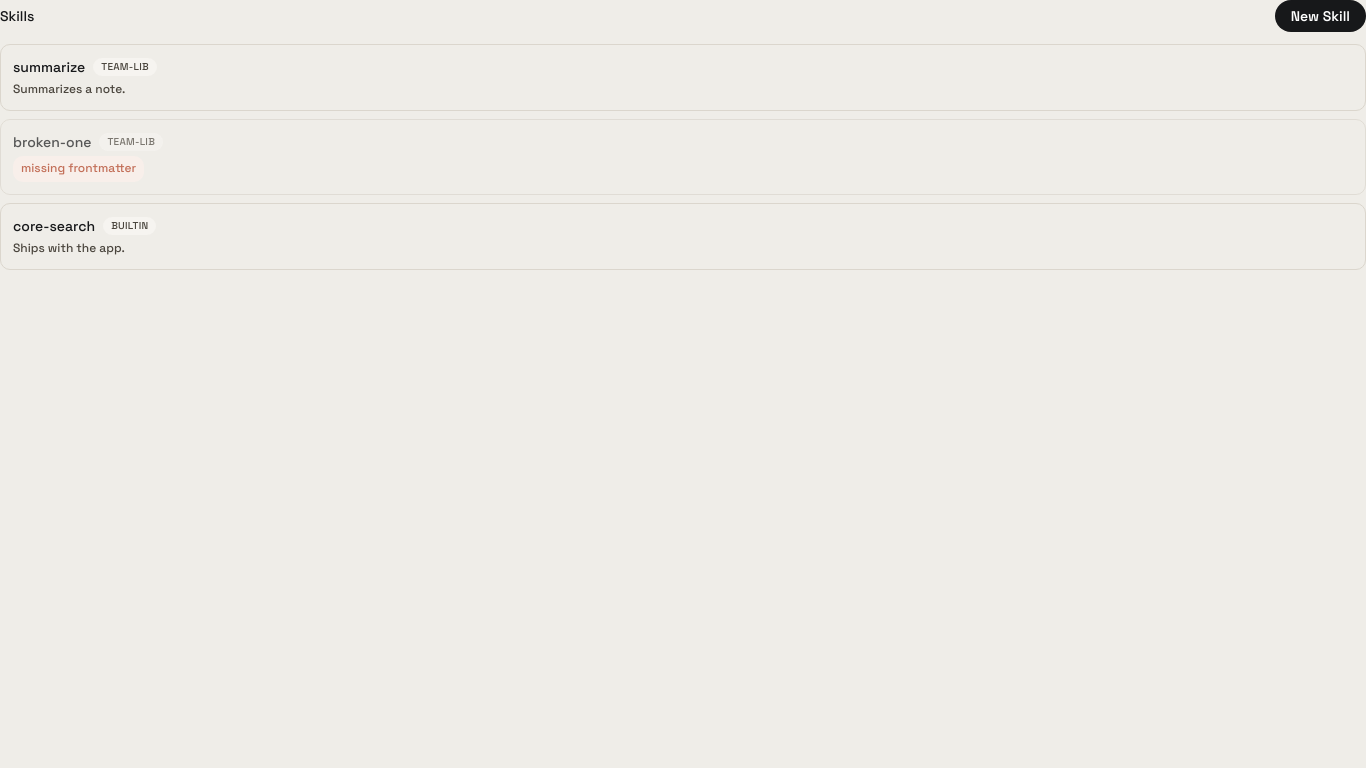
Test: <SkillsBrowser /> › surfaces a failed creation inline, without closing the dialog
Check: the button with test id "skill-card-summarize" is shown, box top-left (0, 44), bottom-right (1365, 111)
Click the button "New Skill".
click(1320, 16)  # box top-left (1275, 0), bottom-right (1365, 32)
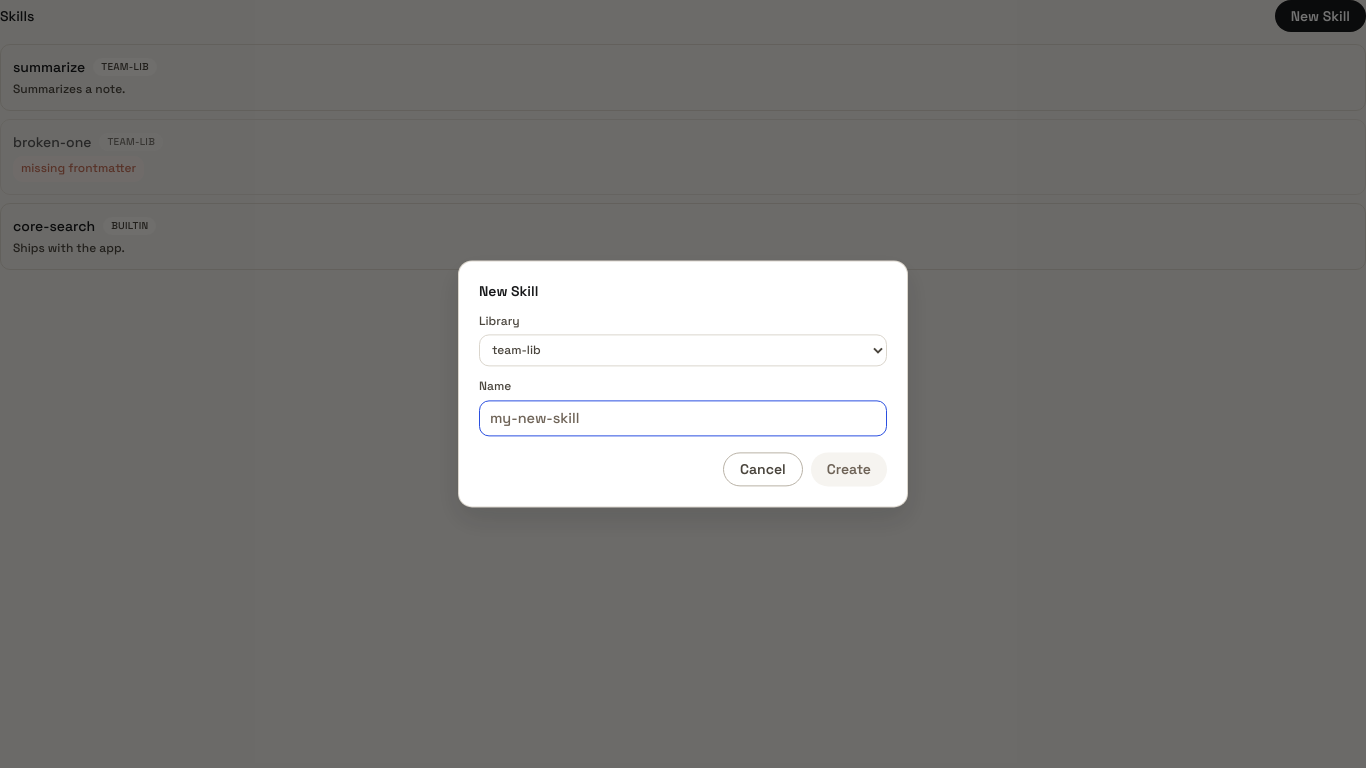
Type "dup" into the field labelled "Name".
click(683, 418); type("dup")  # box top-left (479, 400), bottom-right (887, 437)
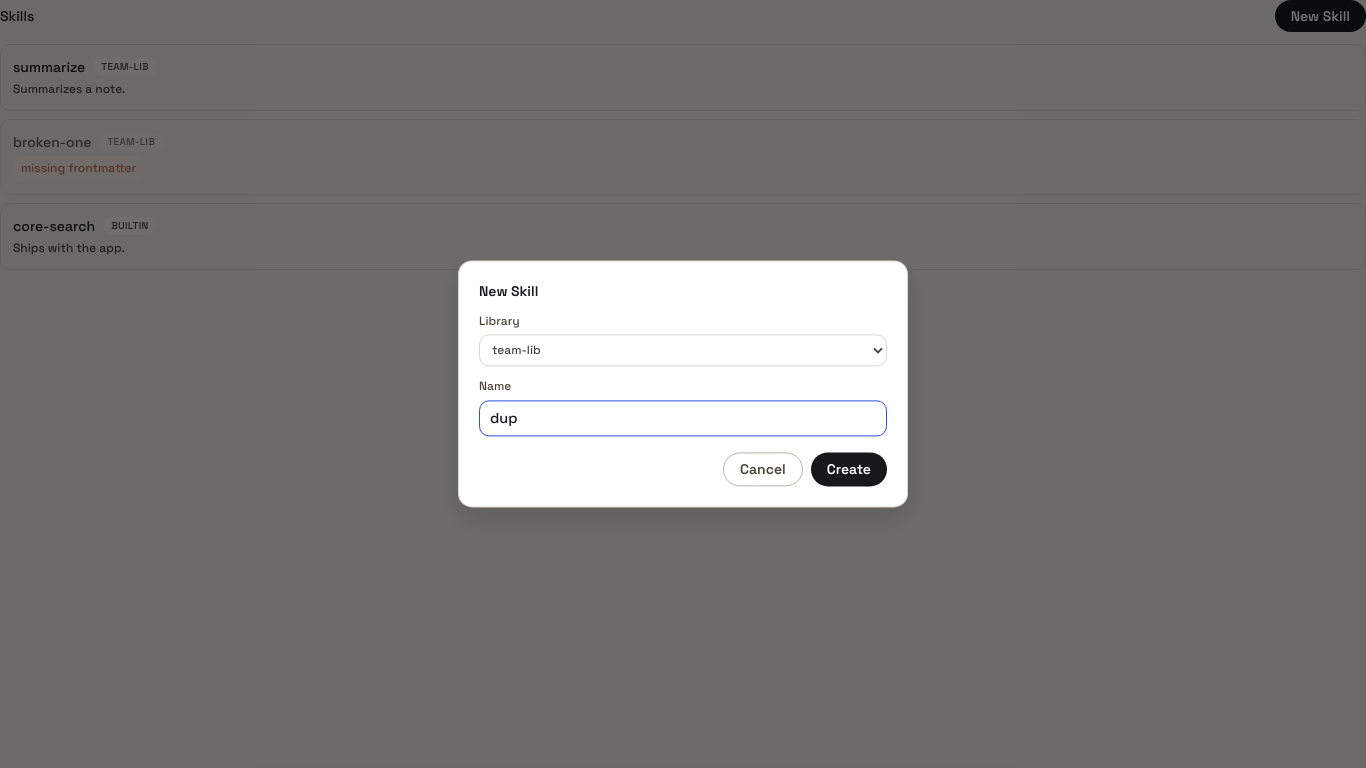
Click the button "Create".
click(849, 470)  # box top-left (811, 453), bottom-right (887, 487)
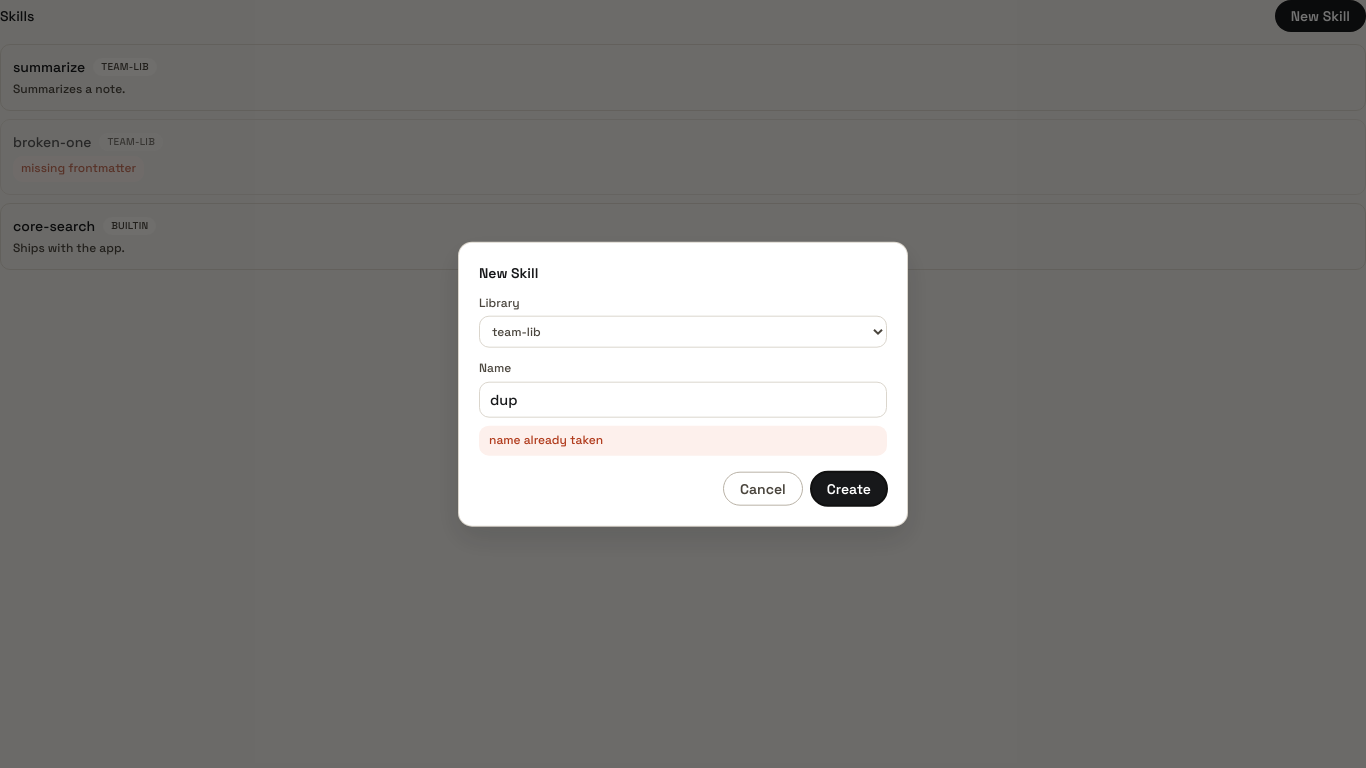
Check: the dialog is shown, box top-left (459, 243), bottom-right (907, 525)
Check: the message reads "name already taken", box top-left (489, 432), bottom-right (603, 448)
